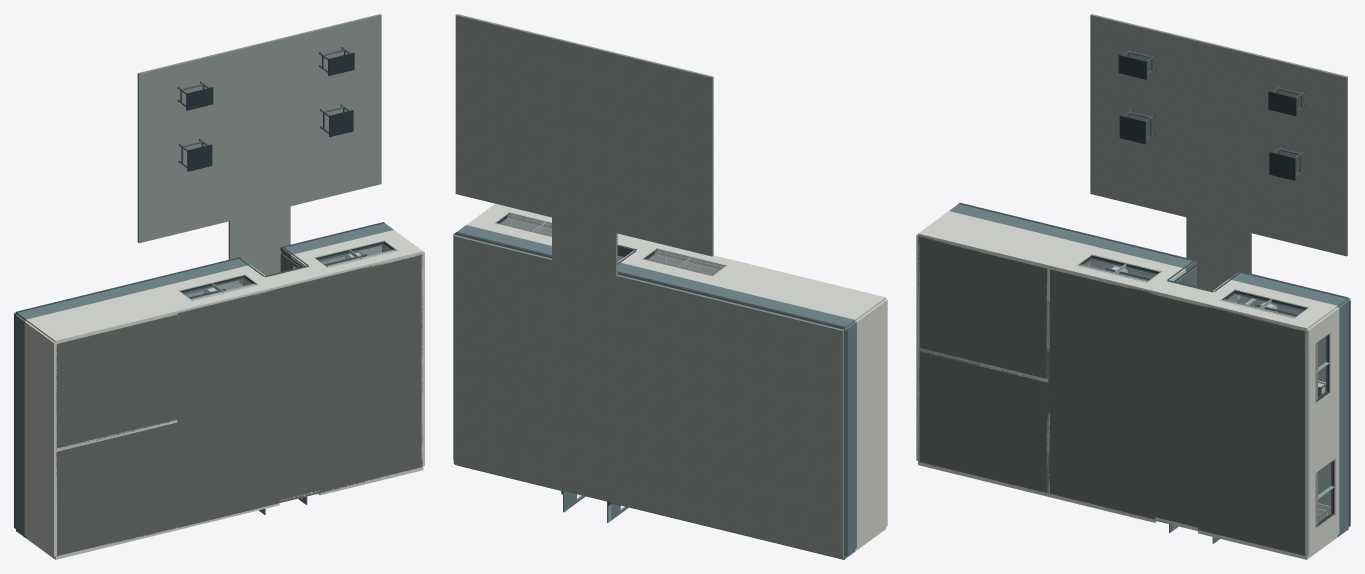
Rendered from laboratory_structure.glb.
The picture shows the model from 3 angles, left to right: view 1: azimuth 30°, elevation 25°; view 2: azimuth 150°, elevation 25°; view 3: azimuth 330°, elevation 25°; orthographic projection. The views are drawn at different scales.
Parts seen in each view (by area): view 1: ceiling_main_plenum, outdoor_floor, ceiling_fab_plenum, ceiling_coat_plenum, wall_annex_west_0_0_1, wall_annex_north_0_0_1, outdoor_access_path, wall_annex_west_0_0_0, wall_annex_north_0_0_0, indoor_floor, wall_north_east_1_1_1, wall_north_east_1_0_0 (+12 smaller); view 2: indoor_floor, outdoor_floor, annex_floor, wall_annex_west_0_0_1, wall_annex_north_0_0_1, outdoor_access_path, wall_annex_west_0_0_0, wall_annex_north_0_0_0, wall_north_east_1_0_0, wall_north_west_1_0_0, wall_north_west_1_0_1, wall_north_west_0_0_1 (+2 smaller); view 3: ceiling_main_plenum, outdoor_floor, ceiling_fab_plenum, ceiling_coat_plenum, wall_annex_north_0_0_1, outdoor_access_path, wall_east_2_0_1, indoor_floor, wall_annex_north_0_0_0, wall_annex_west_0_0_1, wall_east_0_0_1, wall_north_east_1_1_1 (+25 smaller).
Part boxes in pixels (box(x1,y1,x2,y2)): ceiling_main_plenum: box(177, 254, 422, 527); outdoor_floor: box(137, 14, 381, 243); ceiling_fab_plenum: box(56, 419, 177, 556); ceiling_coat_plenum: box(56, 314, 177, 448); wall_annex_west_0_0_1: box(24, 321, 56, 556); wall_annex_north_0_0_1: box(26, 289, 178, 343); outdoor_access_path: box(228, 206, 290, 259); wall_annex_west_0_0_0: box(15, 314, 25, 534); wall_annex_north_0_0_0: box(16, 283, 149, 320); indoor_floor: box(186, 245, 381, 297); wall_north_east_1_1_1: box(328, 251, 404, 274); wall_north_east_1_0_0: box(296, 227, 375, 251); indoor_floor: box(453, 235, 714, 526); outdoor_floor: box(455, 14, 713, 256); annex_floor: box(710, 297, 843, 558); wall_annex_west_0_0_1: box(855, 299, 887, 547); wall_annex_north_0_0_1: box(725, 265, 885, 321); outdoor_access_path: box(552, 217, 617, 277); wall_annex_west_0_0_0: box(844, 321, 856, 555); wall_annex_north_0_0_0: box(713, 288, 855, 329); wall_north_east_1_0_0: box(474, 229, 551, 257); wall_north_west_1_0_0: box(621, 266, 702, 292); wall_north_west_1_0_1: box(633, 259, 712, 282); wall_north_west_0_0_1: box(704, 260, 755, 287); ceiling_main_plenum: box(1046, 268, 1306, 556); outdoor_floor: box(1090, 14, 1347, 256); ceiling_fab_plenum: box(918, 348, 1049, 493); ceiling_coat_plenum: box(918, 236, 1049, 379); wall_annex_north_0_0_1: box(918, 211, 1078, 268); outdoor_access_path: box(1186, 217, 1251, 273); wall_east_2_0_1: box(1305, 386, 1339, 477); indoor_floor: box(1092, 259, 1350, 526); wall_annex_north_0_0_0: box(949, 204, 1088, 242); wall_annex_west_0_0_1: box(916, 234, 919, 461); wall_east_0_0_1: box(1305, 512, 1339, 556); wall_north_east_1_1_1: box(1213, 300, 1293, 326).
Size of the model in its own units: 18.38 by 21.12 by 3.52.
58 materials, 6 textured.
